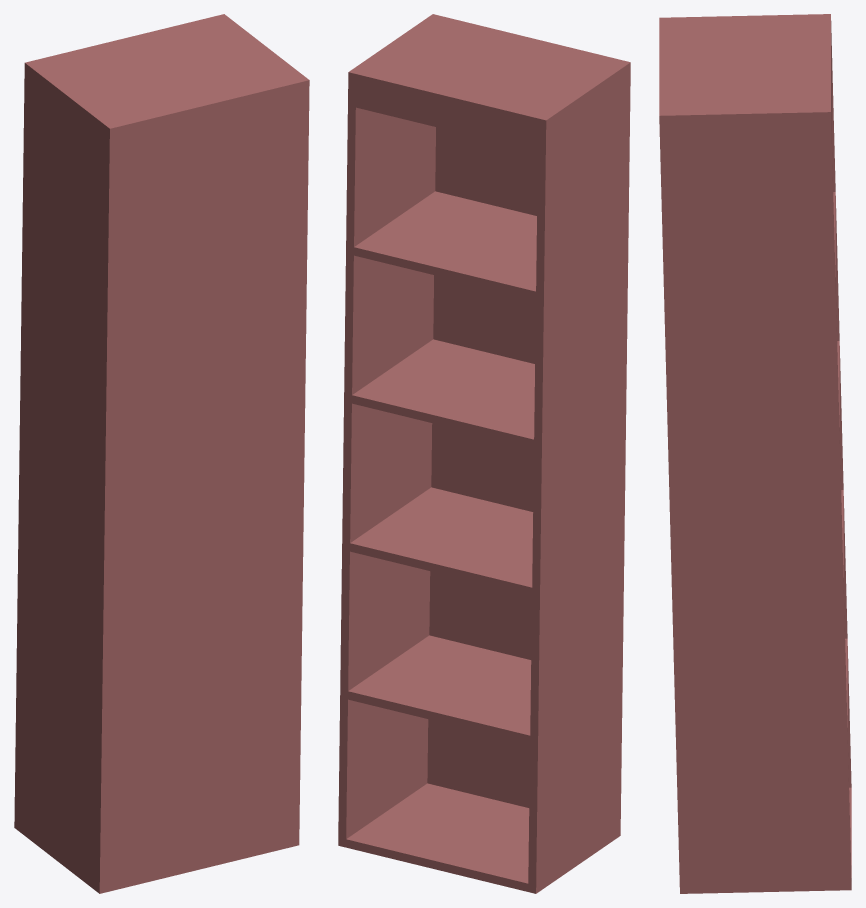
The model's file is bookshelf pivot correct.fbx.
3 views of the same model, side by side, from view 1: azimuth 30°, elevation 25°; view 2: azimuth 150°, elevation 25°; view 3: azimuth 270°, elevation 25° (orthographic).
Visible parts, largest first — view 1: kitaplık; view 2: kitaplık; view 3: kitaplık.
Part boxes in pixels (x1=…): kitaplık: x1=14, y1=14, x2=309, y2=893; kitaplık: x1=338, y1=14, x2=630, y2=893; kitaplık: x1=659, y1=14, x2=851, y2=893.
Bounding box in the file's own units: 50 × 186 × 41.46.
